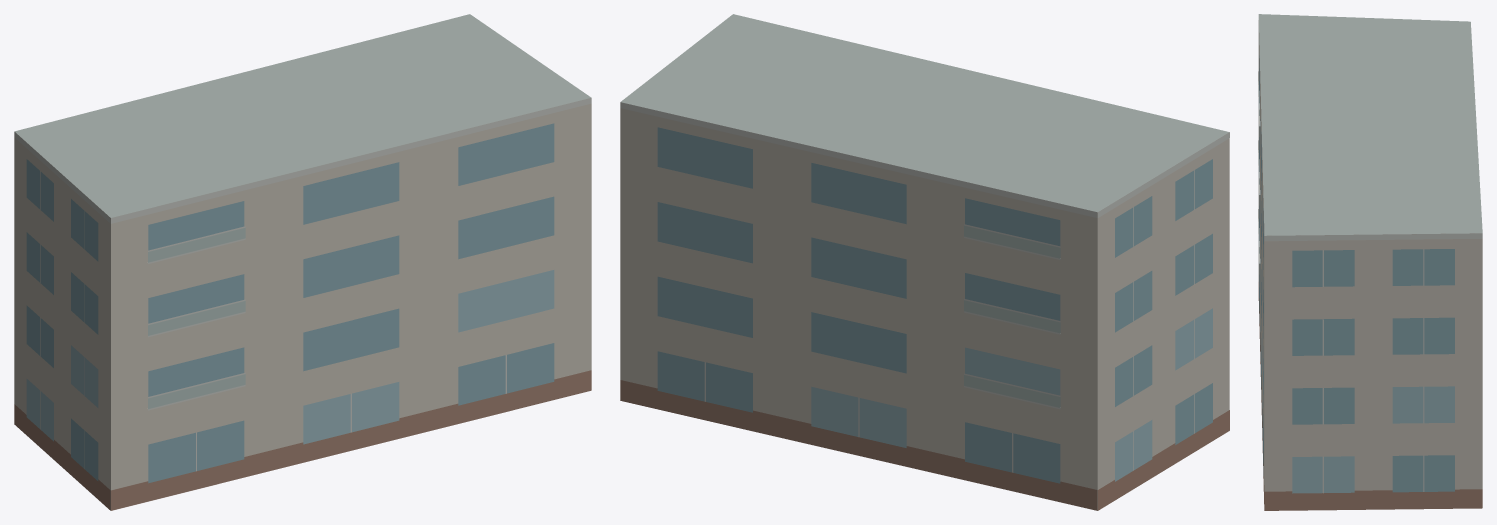
The model's file is residential-1d9b55d5-6a5d-4ad5-b0e3-e2c8aac1a204.glb.
The picture shows the model from 3 angles, left to right: view 1: azimuth 30°, elevation 25°; view 2: azimuth 150°, elevation 25°; view 3: azimuth 270°, elevation 25°; orthographic projection. The views are drawn at different scales.
Parts seen in each view (by area): view 1: residential-1d9b55d5-6a5d-4ad5-b0e3-e2c8aac1a204.tmp; view 2: residential-1d9b55d5-6a5d-4ad5-b0e3-e2c8aac1a204.tmp; view 3: residential-1d9b55d5-6a5d-4ad5-b0e3-e2c8aac1a204.tmp.
Part boxes in pixels (x1,y1,x2,y2): residential-1d9b55d5-6a5d-4ad5-b0e3-e2c8aac1a204.tmp: (14,14,591,510); residential-1d9b55d5-6a5d-4ad5-b0e3-e2c8aac1a204.tmp: (620,14,1229,510); residential-1d9b55d5-6a5d-4ad5-b0e3-e2c8aac1a204.tmp: (1258,14,1482,510).
Size of the model in its own units: 21.11 by 12.2 by 9.03.
